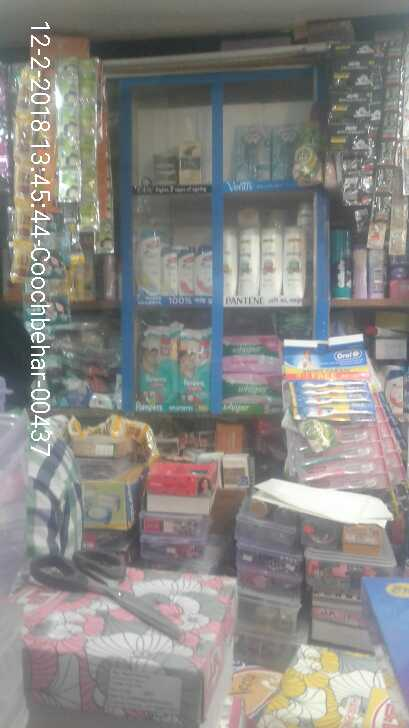venus: (237, 124, 271, 179), (271, 124, 296, 179)
